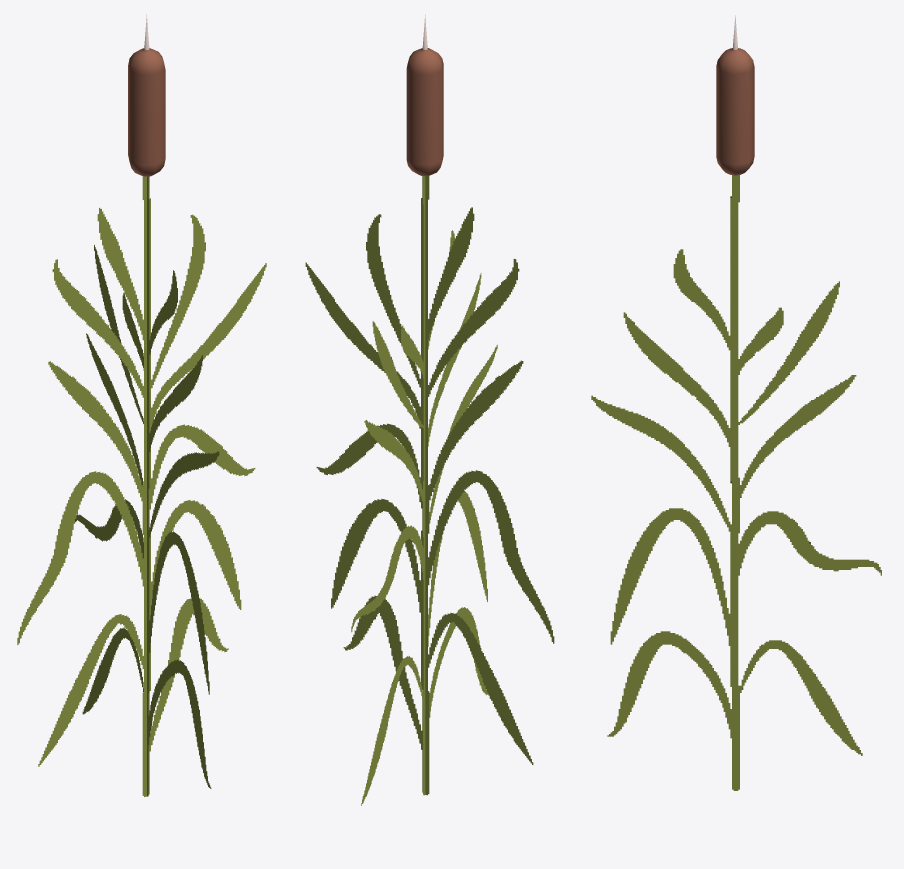
Rendered from CatTail_1.gltf.
3 views of the same model, side by side, from view 1: azimuth 30°, elevation 25°; view 2: azimuth 150°, elevation 25°; view 3: azimuth 270°, elevation 25° (orthographic).
Parts seen in each view (by area): view 1: Cat_Tail_1; view 2: Cat_Tail_1; view 3: Cat_Tail_1.
Boxes of the visible parts, x1,y1,x2,y2 form: Cat_Tail_1: (17, 14, 266, 796); Cat_Tail_1: (305, 14, 554, 805); Cat_Tail_1: (591, 15, 881, 790).
Size of the model in its own units: 56.28 by 164 by 57.82.
1 material, 1 textured.
